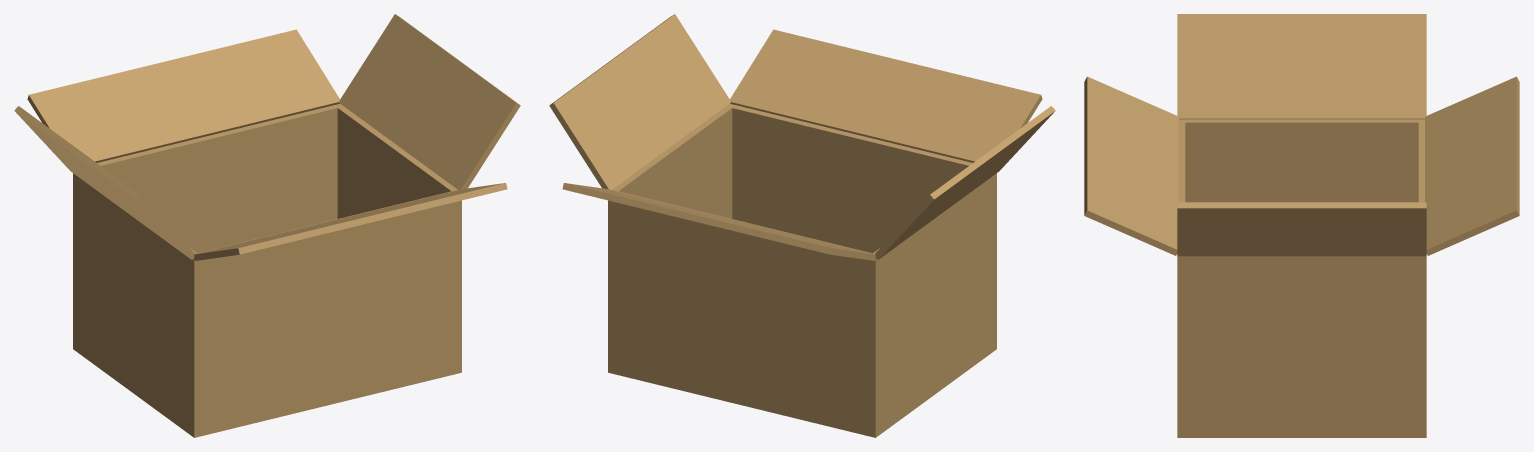
The model's file is cardboard-box.glb.
The picture shows the model from 3 angles, left to right: view 1: azimuth 30°, elevation 25°; view 2: azimuth 150°, elevation 25°; view 3: azimuth 270°, elevation 25°; orthographic projection. The views are drawn at different scales.
Parts seen in each view (by area): view 1: Carton_wall_z1, Carton_wall_x-1, Carton_flap_z_-1, Carton_wall_z-1, Carton_flap_x_1, Carton_wall_x1, Carton_flap_x_-1, Carton_flap_z_1, Carton_floor; view 2: Carton_wall_z-1, Carton_wall_x-1, Carton_flap_z_1, Carton_wall_z1, Carton_flap_x_1, Carton_wall_x1, Carton_flap_x_-1, Carton_flap_z_-1, Carton_floor; view 3: Carton_wall_x1, Carton_flap_x_-1, Carton_wall_x-1, Carton_flap_x_1, Carton_flap_z_-1, Carton_flap_z_1, Carton_floor, Carton_wall_z-1, Carton_wall_z1.
Part boxes in pixels (x1,y1,x2,y2): Carton_wall_z1: (197, 191, 455, 429); Carton_wall_x-1: (73, 173, 200, 437); Carton_flap_z_-1: (27, 29, 339, 162); Carton_wall_z-1: (97, 105, 337, 253); Carton_flap_x_1: (339, 14, 520, 189); Carton_wall_x1: (334, 103, 461, 374); Carton_flap_x_-1: (14, 106, 194, 259); Carton_flap_z_1: (194, 183, 507, 260); Carton_floor: (73, 343, 461, 437); Carton_wall_z-1: (614, 191, 872, 429); Carton_wall_x-1: (869, 173, 996, 437); Carton_flap_z_1: (730, 29, 1042, 162); Carton_wall_z1: (732, 105, 972, 253); Carton_flap_x_1: (549, 14, 730, 189); Carton_wall_x1: (608, 103, 735, 373); Carton_flap_x_-1: (875, 106, 1055, 259); Carton_flap_z_-1: (562, 183, 875, 260); Carton_floor: (608, 342, 996, 437); Carton_wall_x1: (1177, 256, 1426, 437); Carton_flap_x_-1: (1177, 14, 1426, 119); Carton_wall_x-1: (1179, 119, 1424, 202); Carton_flap_x_1: (1177, 202, 1426, 256); Carton_flap_z_-1: (1425, 76, 1519, 255); Carton_flap_z_1: (1084, 76, 1178, 255); Carton_floor: (1177, 430, 1426, 437); Carton_wall_z-1: (1418, 122, 1424, 202); Carton_wall_z1: (1179, 122, 1185, 202).
Bounding box in the file's own units: 0.8056 × 0.5126 × 0.7694.
